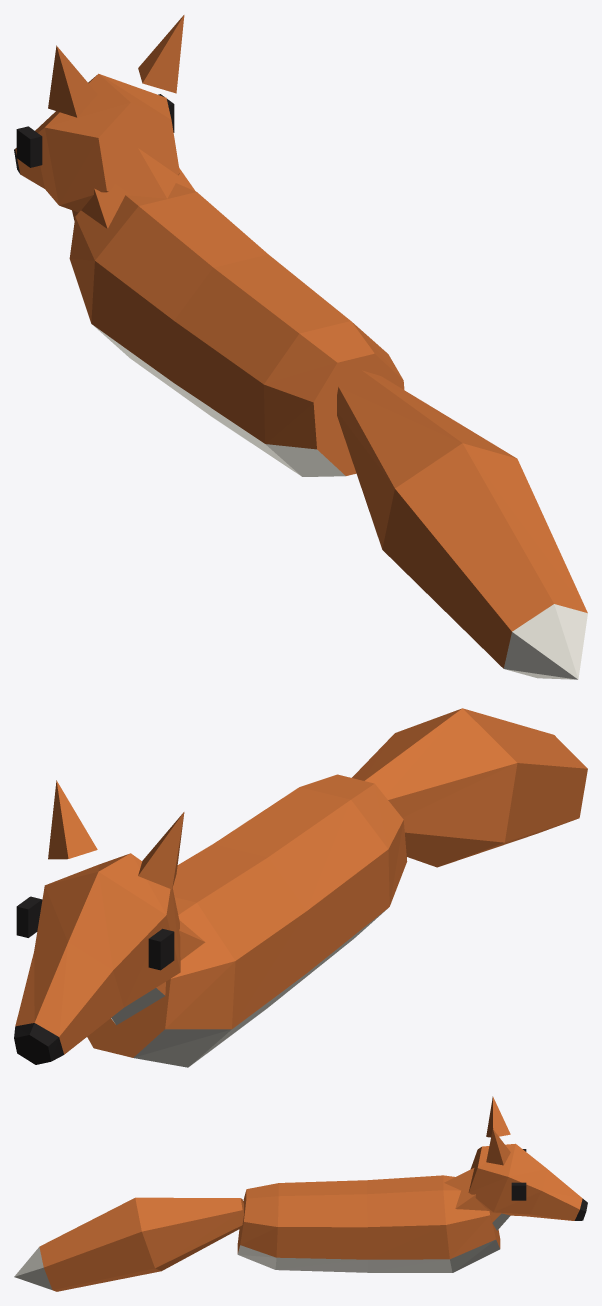
File: animal_fox_red.obj
3 renders of one model, top to bottom at view 1: azimuth 30°, elevation 25°; view 2: azimuth 150°, elevation 25°; view 3: azimuth 270°, elevation 25°, orthographic. The views are drawn at different scales.
Visible parts, largest first — view 1: animal_fox_red; view 2: animal_fox_red; view 3: animal_fox_red.
Part boxes in pixels (x1,y1,x2,y2): animal_fox_red: (14,15,587,679); animal_fox_red: (14,708,587,1067); animal_fox_red: (14,1096,587,1291).
Bounding box in the file's own units: 0.1932 × 0.4397 × 1.27.
